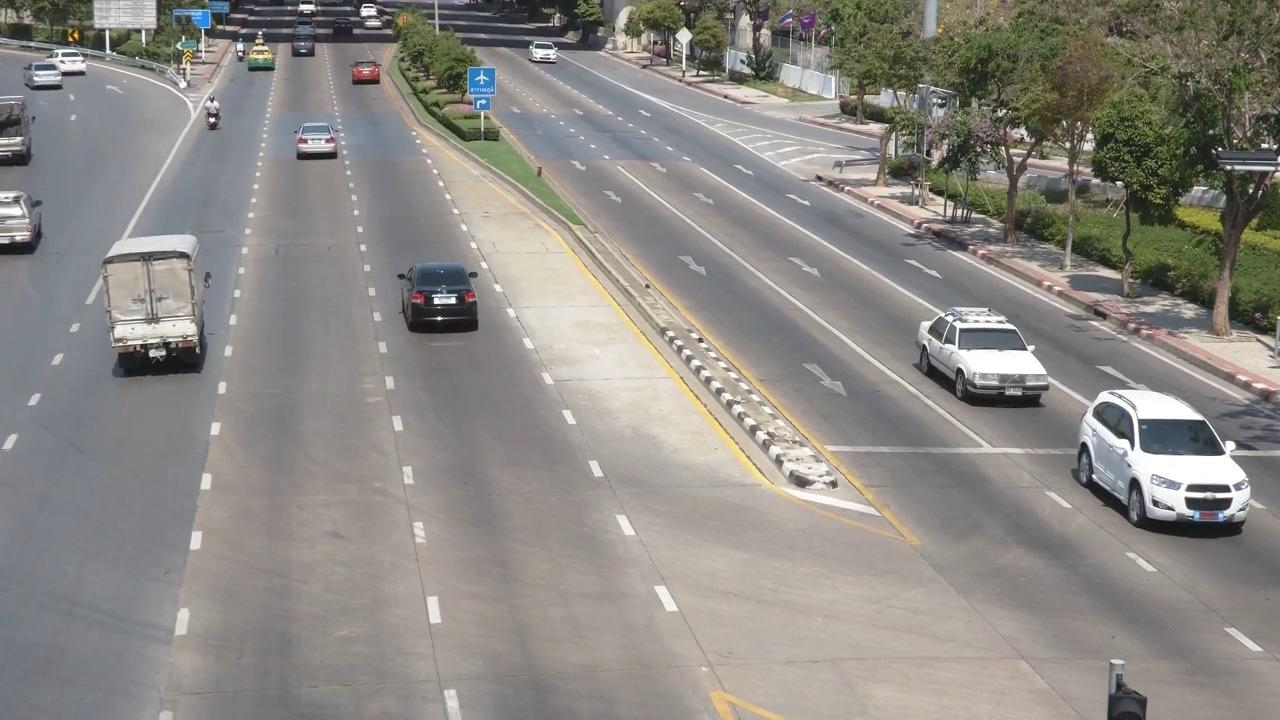CAR: (1056, 384, 1267, 544), (89, 213, 232, 396), (901, 286, 1060, 414), (388, 251, 498, 350), (0, 177, 45, 255), (286, 115, 348, 167), (48, 38, 93, 79), (345, 61, 387, 99), (24, 59, 66, 97), (243, 45, 280, 81), (322, 13, 360, 48), (522, 39, 563, 71), (285, 40, 322, 71), (282, 43, 322, 70), (287, 17, 322, 45)
MOTOR: (197, 81, 225, 134)
